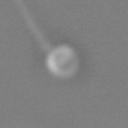normal: (14, 1, 53, 51)
